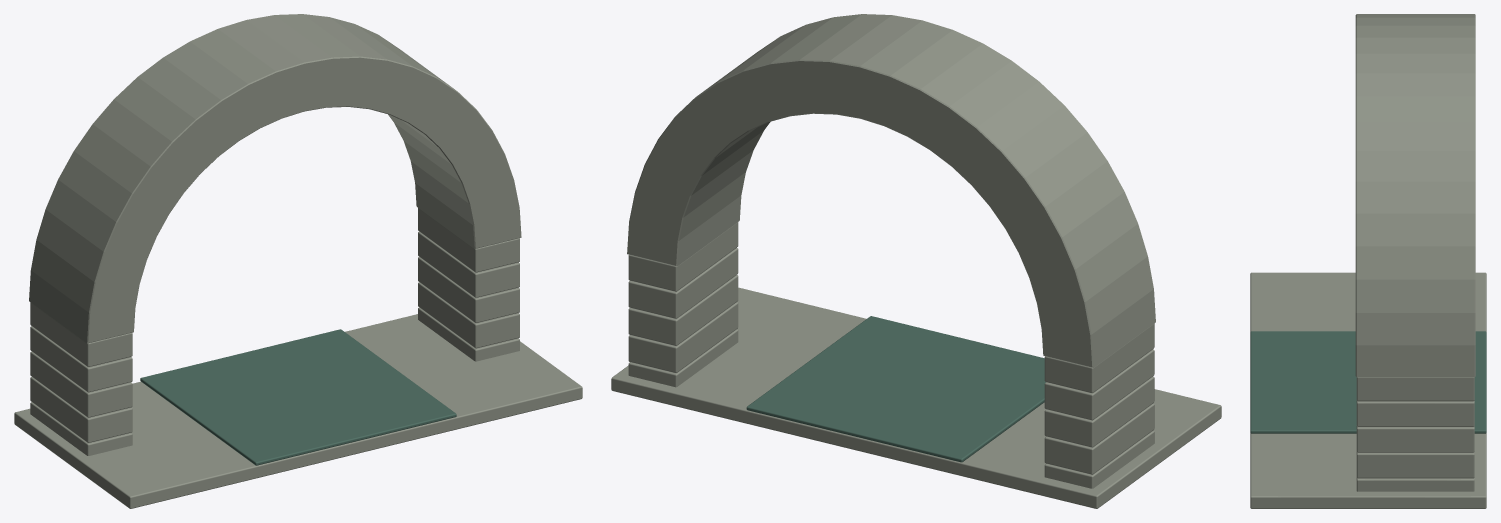
The model's file is undercity-sewers-and-thieves-den-outfall-arch-636cb329__25048.glb.
3 renders of one model, left to right at view 1: azimuth 30°, elevation 25°; view 2: azimuth 150°, elevation 25°; view 3: azimuth 270°, elevation 25°, orthographic. The views are drawn at different scales.
Visible parts, largest first — view 1: outfall-arch; view 2: outfall-arch; view 3: outfall-arch.
Boxes of the visible parts, x1,y1,x2,y2 form: outfall-arch: (14,14,582,508); outfall-arch: (611,14,1221,508); outfall-arch: (1250,14,1486,508).
Bounding box in the file's own units: 4.5 × 3.36 × 2.
